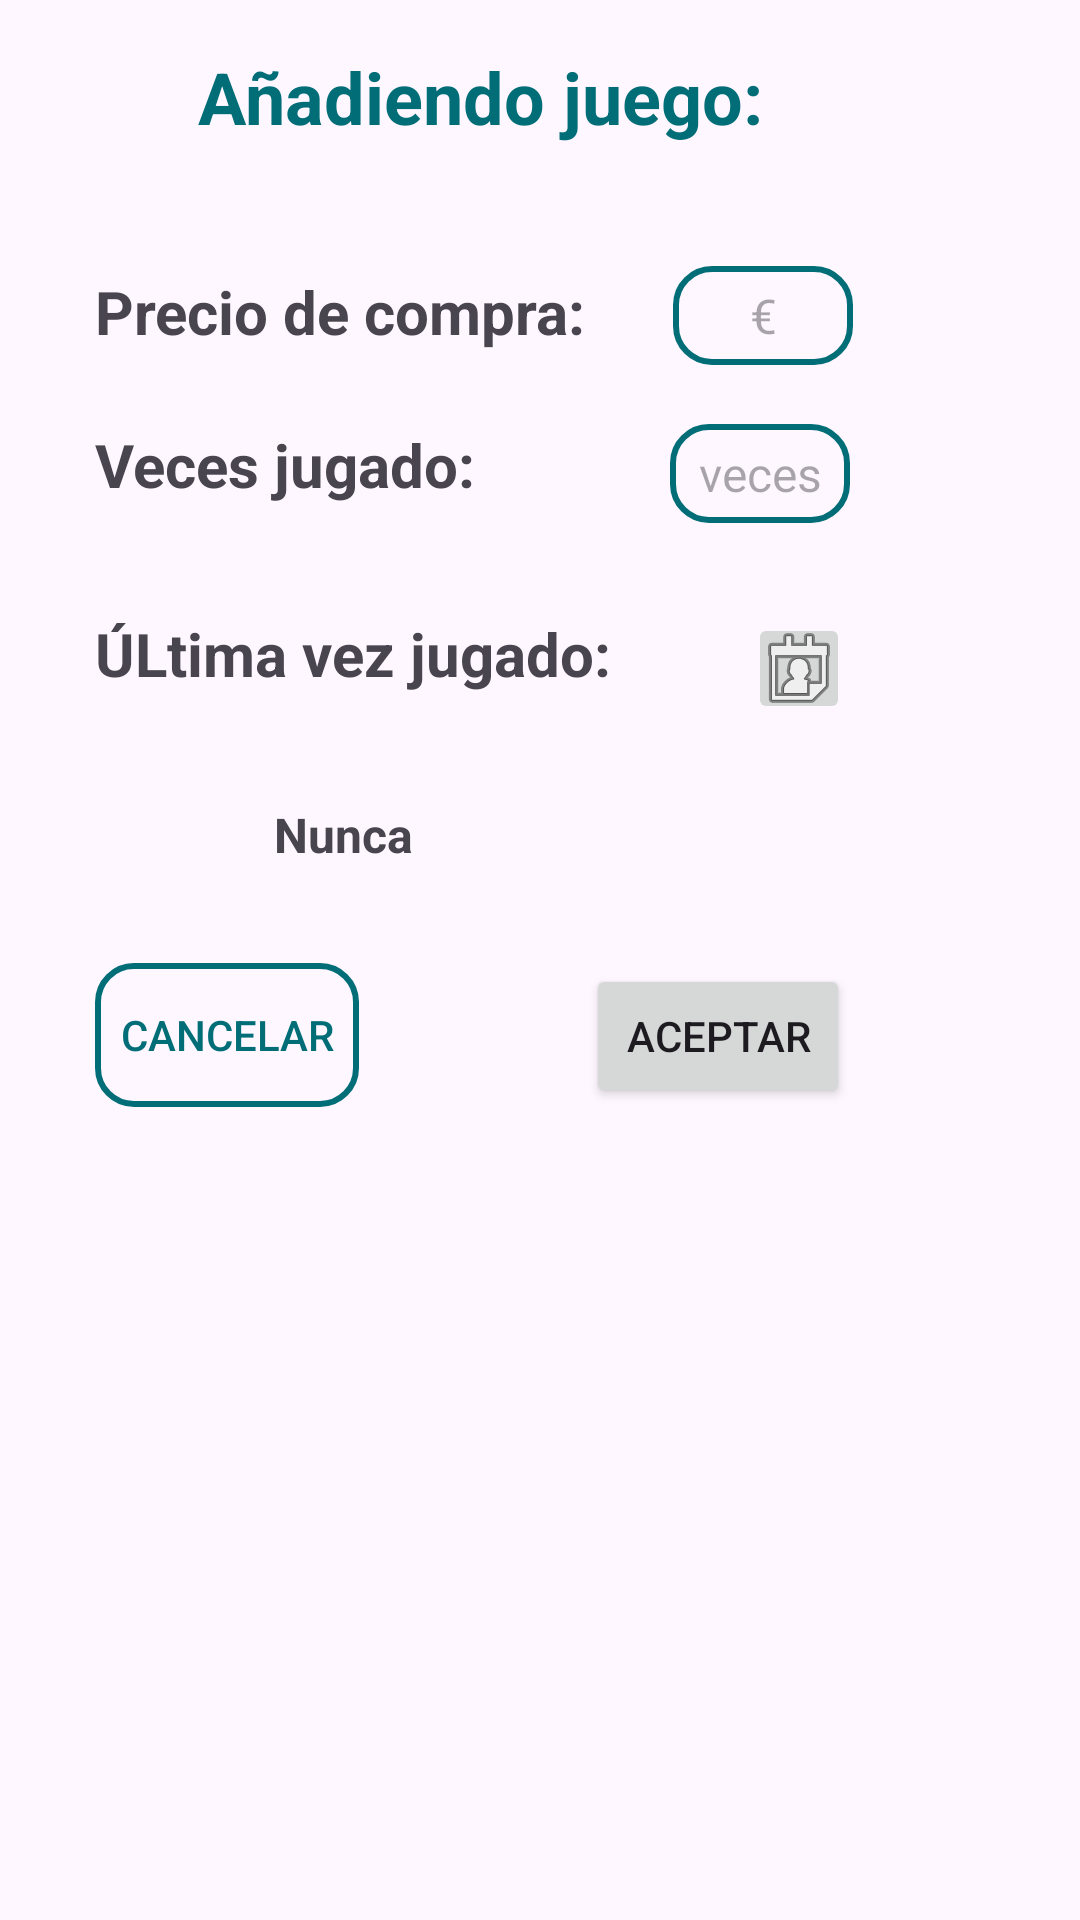

Screen size 1080x1920. Icon name, then its center in pixels as (x,y):
calendar: (799,668)
